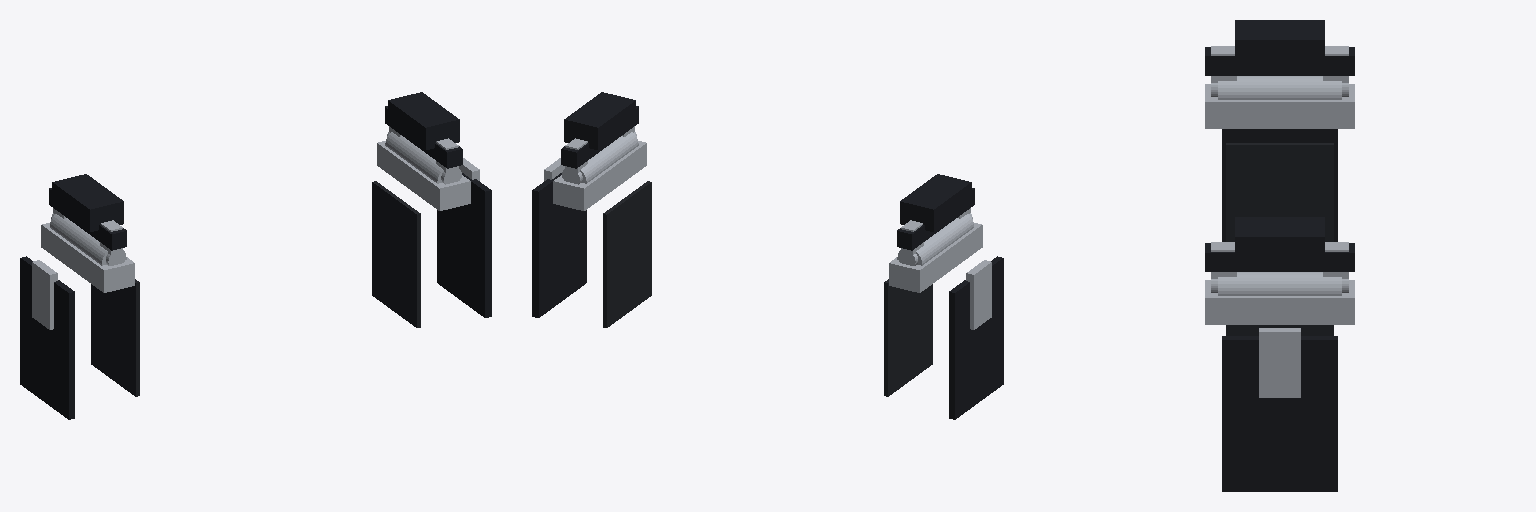
robot.urdf — premium_over_ear_headphones:
<robot name="premium_over_ear_headphones">
  <link name="headband">
    <inertial>
      <origin xyz="0 0 0.11" rpy="0 0 0" />
      <mass value="0.28" />
      <inertia ixx="0.000569333" ixy="0" ixz="0" iyy="0.00179433" iyz="0" izz="0.00169167" />
      </inertial>
    <visual>
      <geometry>
        <mesh filename="assets/meshes/headband_outer.obj" />
        </geometry>
      <material name="matte_graphite">
        <color rgba="0.15 0.16 0.18 1" />
        </material>
      </visual>
    <visual>
      <geometry>
        <mesh filename="assets/meshes/headband_trim.obj" />
        </geometry>
      <material name="satin_aluminum">
        <color rgba="0.7 0.72 0.75 1" />
        </material>
      </visual>
    <visual>
      <geometry>
        <mesh filename="assets/meshes/headband_pad.obj" />
        </geometry>
      <material name="black_leather">
        <color rgba="0.09 0.09 0.1 1" />
        </material>
      </visual>
    <visual>
      <origin xyz="-0.108 0 0.112" rpy="0 0 0" />
      <geometry>
        <box size="0.022 0.042 0.014" />
        </geometry>
      <material name="matte_graphite">
        <color rgba="0.15 0.16 0.18 1" />
        </material>
      </visual>
    <visual>
      <origin xyz="-0.108 0 0.103" rpy="0 0 0" />
      <geometry>
        <box size="0.01 0.07 0.01" />
        </geometry>
      <material name="matte_graphite">
        <color rgba="0.15 0.16 0.18 1" />
        </material>
      </visual>
    <visual>
      <origin xyz="-0.108 0.026 0.098" rpy="0 0 0" />
      <geometry>
        <box size="0.008 0.012 0.022" />
        </geometry>
      <material name="satin_aluminum">
        <color rgba="0.7 0.72 0.75 1" />
        </material>
      </visual>
    <visual>
      <origin xyz="-0.108 -0.026 0.098" rpy="0 0 0" />
      <geometry>
        <box size="0.008 0.012 0.022" />
        </geometry>
      <material name="satin_aluminum">
        <color rgba="0.7 0.72 0.75 1" />
        </material>
      </visual>
    <visual>
      <origin xyz="-0.108 0 0.09" rpy="1.5708 0 0" />
      <geometry>
        <cylinder radius="0.0055" length="0.064" />
        </geometry>
      <material name="satin_aluminum">
        <color rgba="0.7 0.72 0.75 1" />
        </material>
      </visual>
    <visual>
      <origin xyz="0.108 0 0.112" rpy="0 0 0" />
      <geometry>
        <box size="0.022 0.042 0.014" />
        </geometry>
      <material name="matte_graphite">
        <color rgba="0.15 0.16 0.18 1" />
        </material>
      </visual>
    <visual>
      <origin xyz="0.108 0 0.103" rpy="0 0 0" />
      <geometry>
        <box size="0.01 0.07 0.01" />
        </geometry>
      <material name="matte_graphite">
        <color rgba="0.15 0.16 0.18 1" />
        </material>
      </visual>
    <visual>
      <origin xyz="0.108 0.026 0.098" rpy="0 0 0" />
      <geometry>
        <box size="0.008 0.012 0.022" />
        </geometry>
      <material name="satin_aluminum">
        <color rgba="0.7 0.72 0.75 1" />
        </material>
      </visual>
    <visual>
      <origin xyz="0.108 -0.026 0.098" rpy="0 0 0" />
      <geometry>
        <box size="0.008 0.012 0.022" />
        </geometry>
      <material name="satin_aluminum">
        <color rgba="0.7 0.72 0.75 1" />
        </material>
      </visual>
    <visual>
      <origin xyz="0.108 0 0.09" rpy="1.5708 0 0" />
      <geometry>
        <cylinder radius="0.0055" length="0.064" />
        </geometry>
      <material name="satin_aluminum">
        <color rgba="0.7 0.72 0.75 1" />
        </material>
      </visual>
    </link>
  <link name="left_earcup">
    <inertial>
      <origin xyz="0 0 -0.056" rpy="0 0 0" />
      <mass value="0.16" />
      <inertia ixx="0.000256907" ixy="0" ixz="0" iyy="0.000207587" iyz="0" izz="0.000129987" />
      </inertial>
    <visual>
      <geometry>
        <mesh filename="assets/meshes/earcup_shell.obj" />
        </geometry>
      <material name="matte_graphite">
        <color rgba="0.15 0.16 0.18 1" />
        </material>
      </visual>
    <visual>
      <origin xyz="0 0 -0.01" rpy="0 0 0" />
      <geometry>
        <box size="0.02 0.07 0.014" />
        </geometry>
      <material name="satin_aluminum">
        <color rgba="0.7 0.72 0.75 1" />
        </material>
      </visual>
    <visual>
      <origin xyz="0 0 -0.002" rpy="1.5708 0 0" />
      <geometry>
        <cylinder radius="0.008" length="0.058" />
        </geometry>
      <material name="satin_aluminum">
        <color rgba="0.7 0.72 0.75 1" />
        </material>
      </visual>
    <visual>
      <origin xyz="0.0175 0 -0.056" rpy="0 0 0" />
      <geometry>
        <box size="0.0025 0.05 0.07" />
        </geometry>
      <material name="acoustic_fabric">
        <color rgba="0.18 0.19 0.21 1" />
        </material>
      </visual>
    <visual>
      <origin xyz="0.022 0 -0.056" rpy="0 0 0" />
      <geometry>
        <mesh filename="assets/meshes/earcup_trim_ring.obj" />
        </geometry>
      <material name="satin_aluminum">
        <color rgba="0.7 0.72 0.75 1" />
        </material>
      </visual>
    <visual>
      <origin xyz="0.033 0 -0.056" rpy="0 0 0" />
      <geometry>
        <mesh filename="assets/meshes/earcup_cushion_ring.obj" />
        </geometry>
      <material name="black_leather">
        <color rgba="0.09 0.09 0.1 1" />
        </material>
      </visual>
    <visual>
      <origin xyz="-0.026 0 -0.055" rpy="0 0 0" />
      <geometry>
        <box size="0.004 0.054 0.078" />
        </geometry>
      <material name="matte_graphite">
        <color rgba="0.15 0.16 0.18 1" />
        </material>
      </visual>
    <visual>
      <origin xyz="-0.028 0 -0.028" rpy="0 0 0" />
      <geometry>
        <box size="0.005 0.02 0.034" />
        </geometry>
      <material name="satin_aluminum">
        <color rgba="0.7 0.72 0.75 1" />
        </material>
      </visual>
    </link>
  <link name="right_earcup">
    <inertial>
      <origin xyz="0 0 -0.056" rpy="0 0 0" />
      <mass value="0.16" />
      <inertia ixx="0.000256907" ixy="0" ixz="0" iyy="0.000207587" iyz="0" izz="0.000129987" />
      </inertial>
    <visual>
      <geometry>
        <mesh filename="assets/meshes/earcup_shell.obj" />
        </geometry>
      <material name="matte_graphite">
        <color rgba="0.15 0.16 0.18 1" />
        </material>
      </visual>
    <visual>
      <origin xyz="0 0 -0.01" rpy="0 0 0" />
      <geometry>
        <box size="0.02 0.07 0.014" />
        </geometry>
      <material name="satin_aluminum">
        <color rgba="0.7 0.72 0.75 1" />
        </material>
      </visual>
    <visual>
      <origin xyz="0 0 -0.002" rpy="1.5708 0 0" />
      <geometry>
        <cylinder radius="0.008" length="0.058" />
        </geometry>
      <material name="satin_aluminum">
        <color rgba="0.7 0.72 0.75 1" />
        </material>
      </visual>
    <visual>
      <origin xyz="-0.0175 0 -0.056" rpy="0 0 0" />
      <geometry>
        <box size="0.0025 0.05 0.07" />
        </geometry>
      <material name="acoustic_fabric">
        <color rgba="0.18 0.19 0.21 1" />
        </material>
      </visual>
    <visual>
      <origin xyz="-0.022 0 -0.056" rpy="0 0 0" />
      <geometry>
        <mesh filename="assets/meshes/earcup_trim_ring.obj" />
        </geometry>
      <material name="satin_aluminum">
        <color rgba="0.7 0.72 0.75 1" />
        </material>
      </visual>
    <visual>
      <origin xyz="-0.033 0 -0.056" rpy="0 0 0" />
      <geometry>
        <mesh filename="assets/meshes/earcup_cushion_ring.obj" />
        </geometry>
      <material name="black_leather">
        <color rgba="0.09 0.09 0.1 1" />
        </material>
      </visual>
    <visual>
      <origin xyz="0.026 0 -0.055" rpy="0 0 0" />
      <geometry>
        <box size="0.004 0.054 0.078" />
        </geometry>
      <material name="matte_graphite">
        <color rgba="0.15 0.16 0.18 1" />
        </material>
      </visual>
    <visual>
      <origin xyz="0.028 0 -0.028" rpy="0 0 0" />
      <geometry>
        <box size="0.005 0.02 0.034" />
        </geometry>
      <material name="satin_aluminum">
        <color rgba="0.7 0.72 0.75 1" />
        </material>
      </visual>
    </link>
  <joint name="left_cup_fold" type="revolute">
    <origin xyz="-0.108 0 0.09" rpy="0 0 0" />
    <parent link="headband" />
    <child link="left_earcup" />
    <axis xyz="0 -1 0" />
    <limit effort="4" velocity="2.5" lower="0" upper="0.55" />
    </joint>
  <joint name="right_cup_fold" type="revolute">
    <origin xyz="0.108 0 0.09" rpy="0 0 0" />
    <parent link="headband" />
    <child link="right_earcup" />
    <axis xyz="0 1 0" />
    <limit effort="4" velocity="2.5" lower="0" upper="0.55" />
    </joint>
  </robot>

--- Facts derived from the render (not from the file) ---
Views: 3 orthographic renders of the robot side by side, from view 1: azimuth 30°, elevation 25°; view 2: azimuth 150°, elevation 25°; view 3: azimuth 270°, elevation 25°.
Model premium_over_ear_headphones with 3 links and 2 joints (2 revolute), rooted at headband, posed every joint at zero.
Links seen in each view (by area): view 1: left_earcup, right_earcup, headband; view 2: left_earcup, right_earcup, headband; view 3: right_earcup, left_earcup, headband.
Link boxes in pixels (x1,y1,x2,y2): left_earcup: (20,214,139,419); right_earcup: (372,132,491,327); headband: (49,92,462,265); left_earcup: (884,214,1003,419); right_earcup: (532,132,651,327); headband: (561,92,974,265); right_earcup: (1205,272,1354,491); left_earcup: (1205,76,1354,241); headband: (1205,20,1354,292).
Size in the robot's own frame: 0.277 by 0.07 by 0.123 metres.
Meshes: 6 distinct files referenced, 0 mesh visuals loaded (none loaded); not drawn: 9 (reference not matched to a file when rendering).
